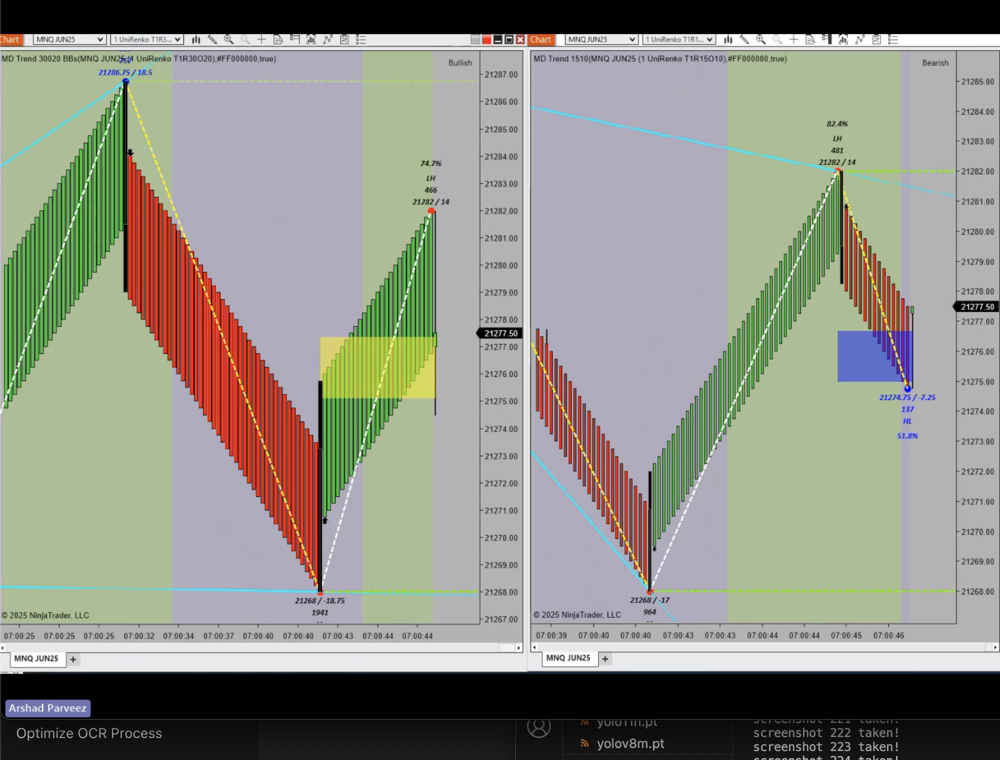HL: (893, 412, 922, 432)
LH: (827, 127, 853, 151), (421, 169, 440, 184)
